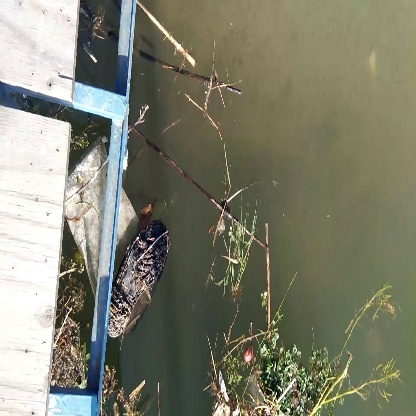plastic-garbage: (108, 222, 171, 337)
